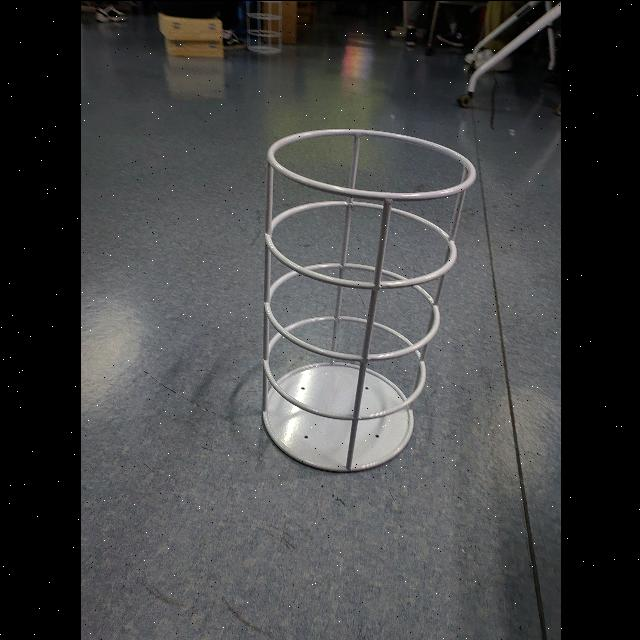S: (255, 124, 480, 478)
